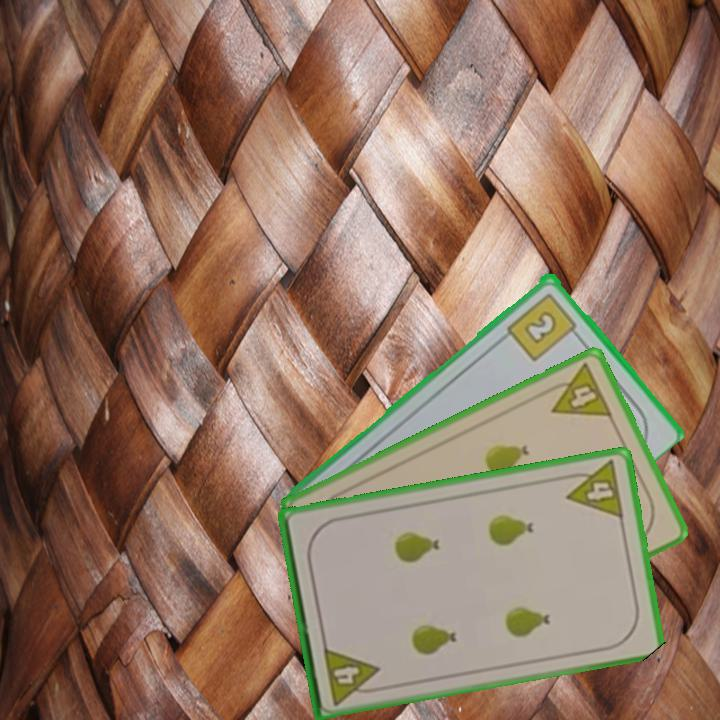2b: (503, 289, 583, 364)
4p: (539, 359, 616, 420), (560, 457, 627, 522), (320, 643, 384, 708)
